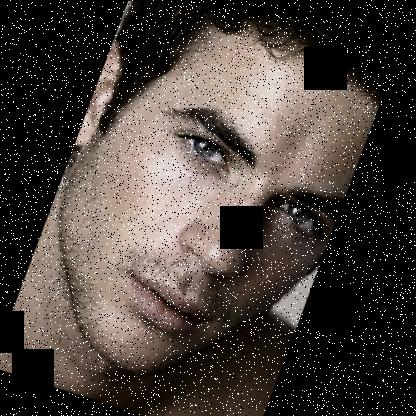Male: (2, 0, 394, 414)
